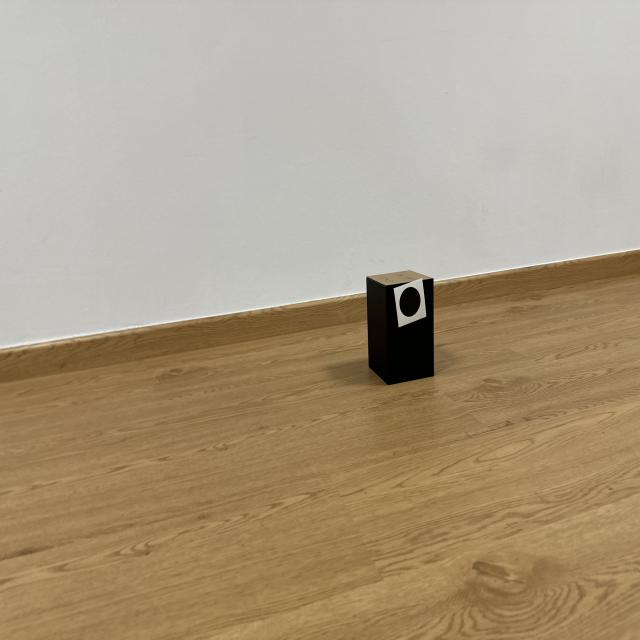CIRCLE: (399, 287, 421, 317)
